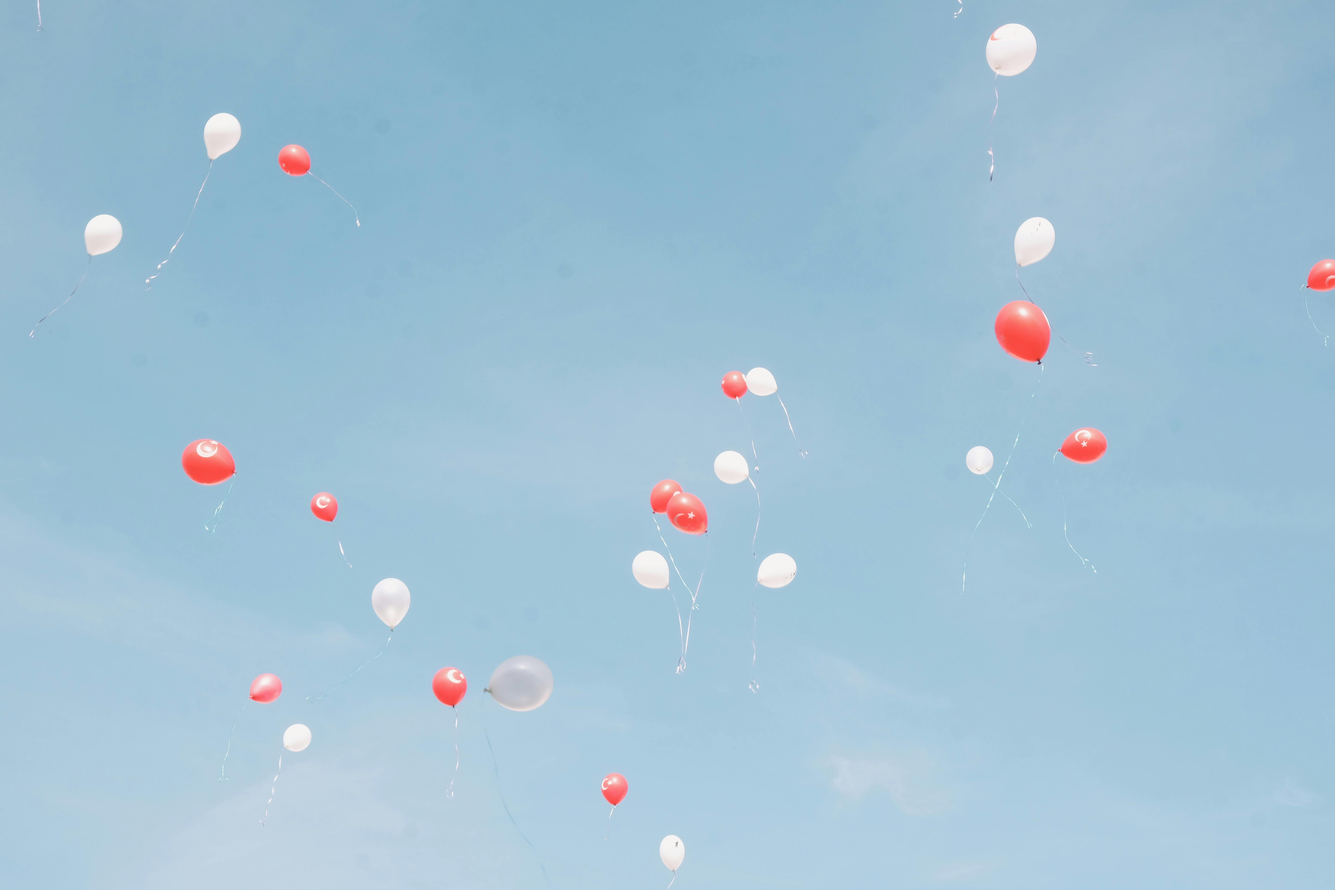balloon: (487, 656, 553, 712), (995, 300, 1050, 363), (986, 23, 1036, 76), (182, 439, 235, 484), (1015, 217, 1055, 267), (372, 578, 410, 629), (204, 113, 241, 160), (667, 492, 708, 534), (1061, 428, 1107, 463), (85, 215, 122, 256), (632, 550, 669, 589), (757, 553, 797, 589), (433, 668, 467, 707), (714, 451, 748, 484), (650, 479, 682, 513), (282, 723, 317, 754), (278, 144, 311, 176), (250, 673, 282, 703), (745, 367, 777, 396), (660, 835, 685, 872), (1307, 259, 1335, 291), (601, 773, 628, 806), (310, 492, 337, 522), (966, 446, 993, 475), (722, 371, 747, 399)
